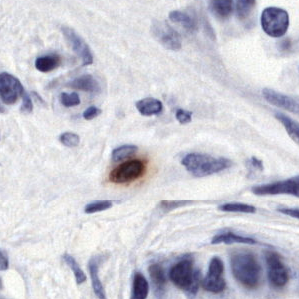Lymphocyte: (104, 157, 149, 184)
